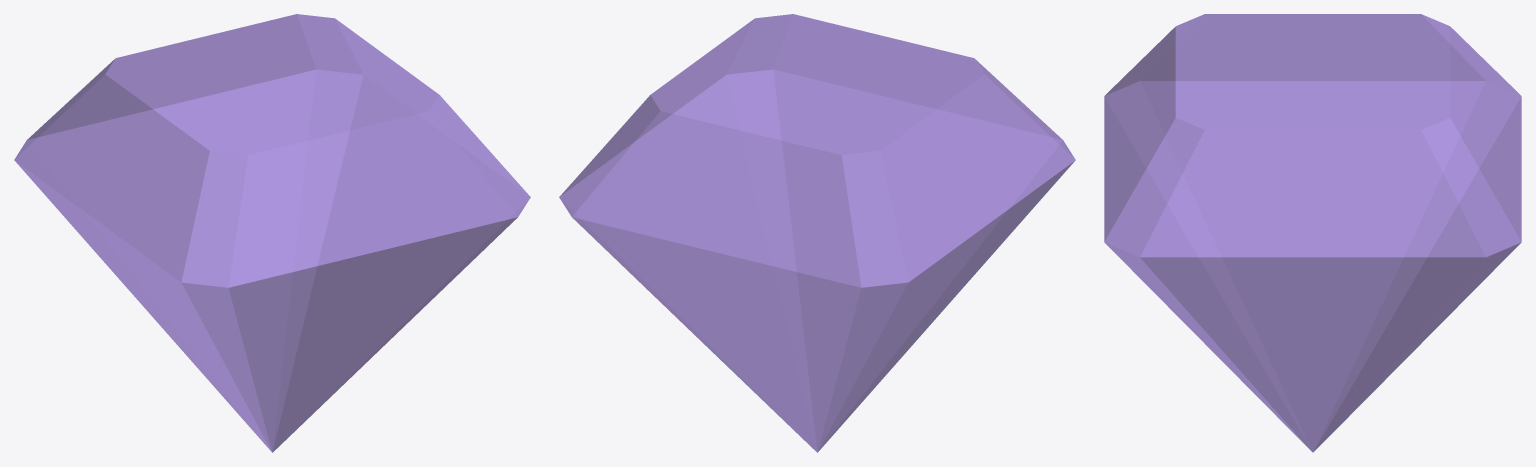
Rendered from Gem_New_04.fbx.
3 views of the same model, side by side, from view 1: azimuth 30°, elevation 25°; view 2: azimuth 150°, elevation 25°; view 3: azimuth 270°, elevation 25° (orthographic). The views are drawn at different scales.
Visible parts, largest first — view 1: Model; view 2: Model; view 3: Model.
Part boxes in pixels (bbox=[...]): Model: bbox=[14, 14, 530, 452]; Model: bbox=[559, 14, 1075, 452]; Model: bbox=[1104, 14, 1521, 452].
Size of the model in its own units: 55.83 by 56.22 by 55.83.
